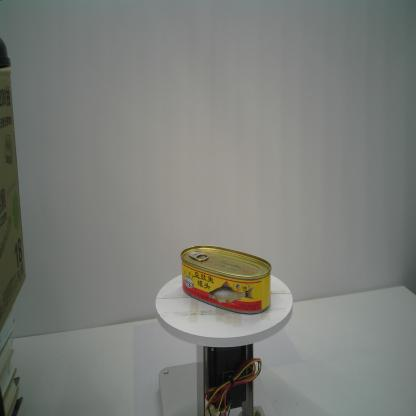Canned Food: (179, 244, 272, 316)
